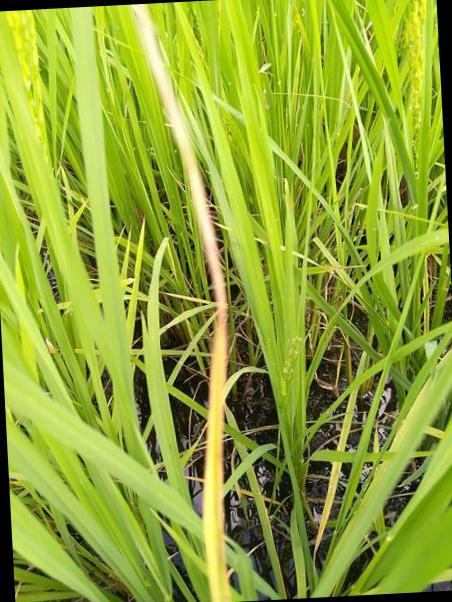Leaf Blight: (133, 4, 232, 602)
